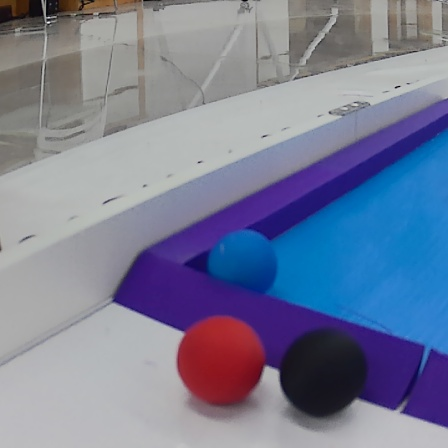black: (281, 326, 371, 419)
blue: (201, 226, 281, 299)
blue_aim: (104, 94, 448, 436)
red: (178, 314, 267, 408)
